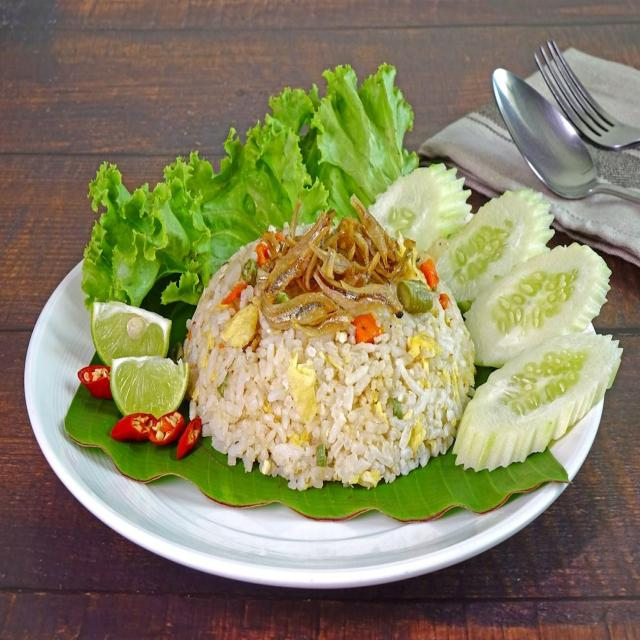Nasi Goreng: (167, 213, 488, 502)
